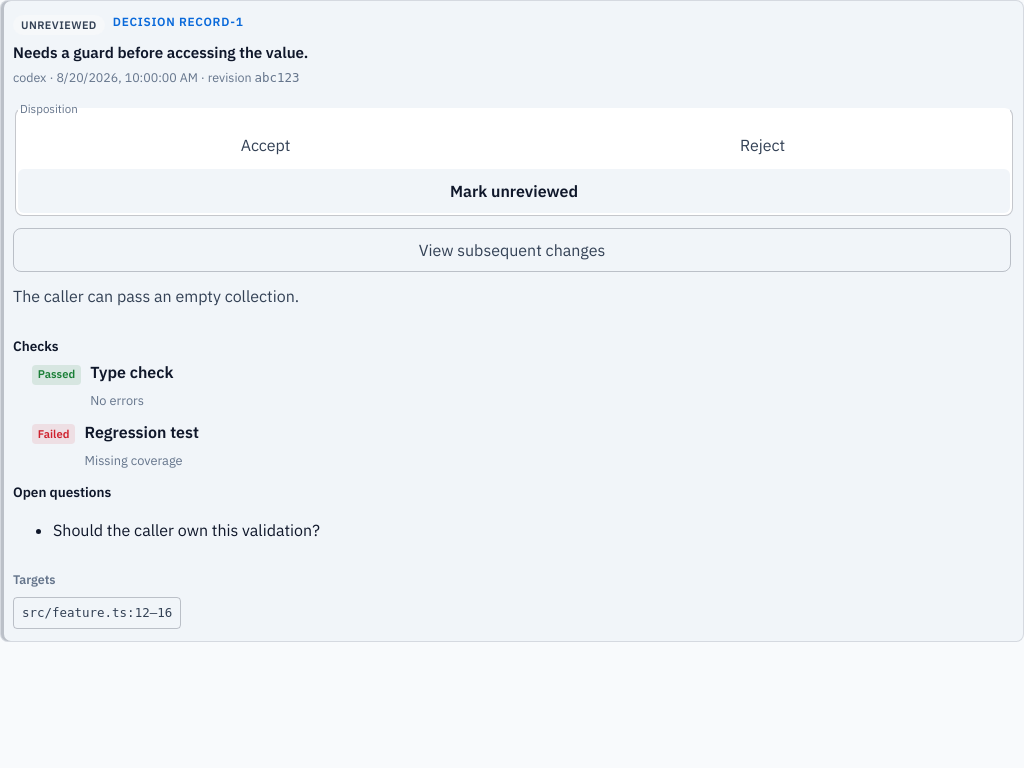
Test: DecisionCard › keeps the current disposition and shows an alert when the mutation fails
This screenshot has width=1024, height=768.
Click the button "Reject".
click(762, 145)  # box [515,123,1010,167]
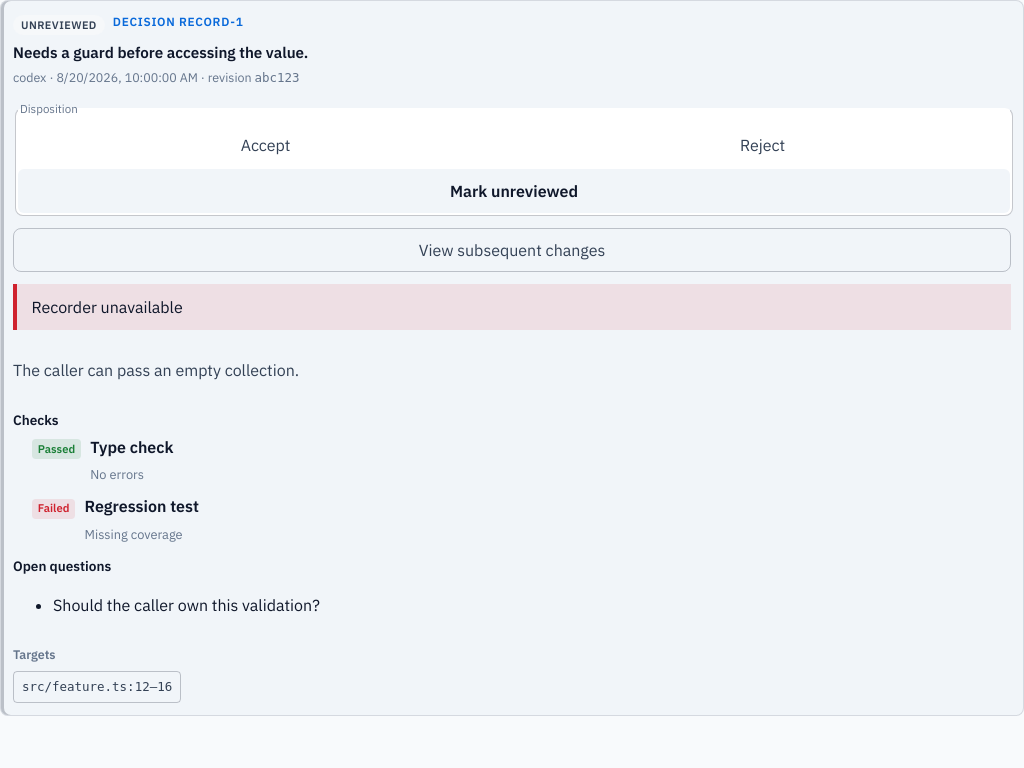
expect the message reads "Recorder unavailable": met, box [31,297,183,317]
